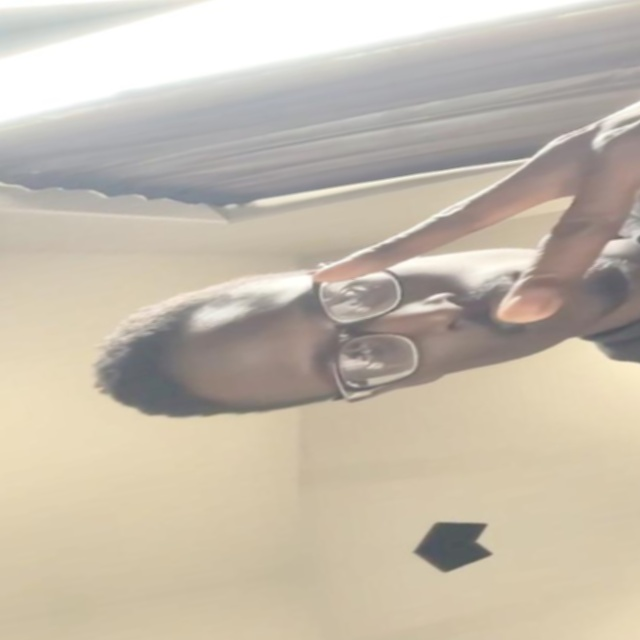Scissors: (289, 59, 640, 356)
